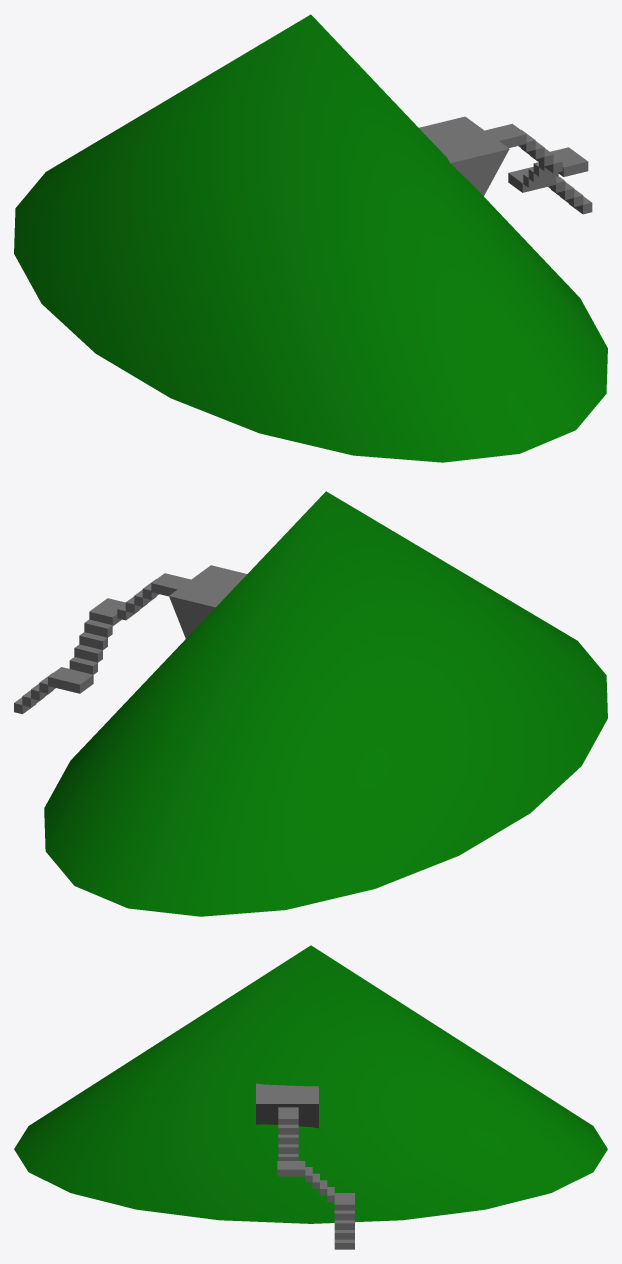
File: Mountain and Stairs.fbx
The picture shows the model from 3 angles, top to bottom: view 1: azimuth 30°, elevation 25°; view 2: azimuth 150°, elevation 25°; view 3: azimuth 270°, elevation 25°; orthographic projection. The views are drawn at different scales.
Visible parts, largest first — view 1: sculptor2; view 2: sculptor2; view 3: sculptor2.
Part boxes in pixels (box(x1,y1,x2,y2)): sculptor2: box(14, 14, 607, 462); sculptor2: box(14, 491, 607, 916); sculptor2: box(14, 945, 607, 1249).
Bounding box in the file's own units: 9.47 × 5.06 × 13.35.
